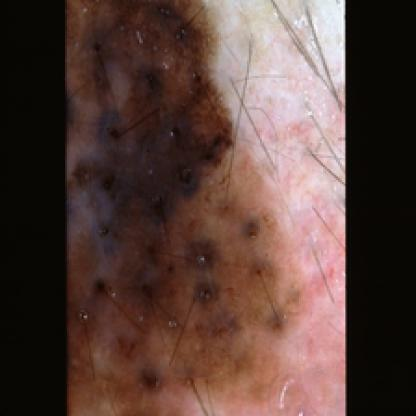malignant: (69, 11, 217, 282)
